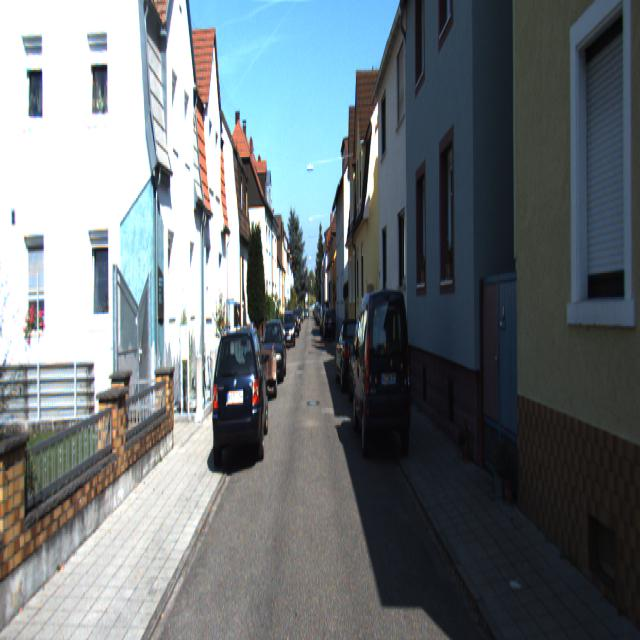Car: (350, 280, 412, 462), (212, 321, 269, 479), (335, 314, 369, 394), (261, 315, 286, 385), (252, 340, 278, 399), (324, 306, 338, 342), (283, 310, 295, 346)
